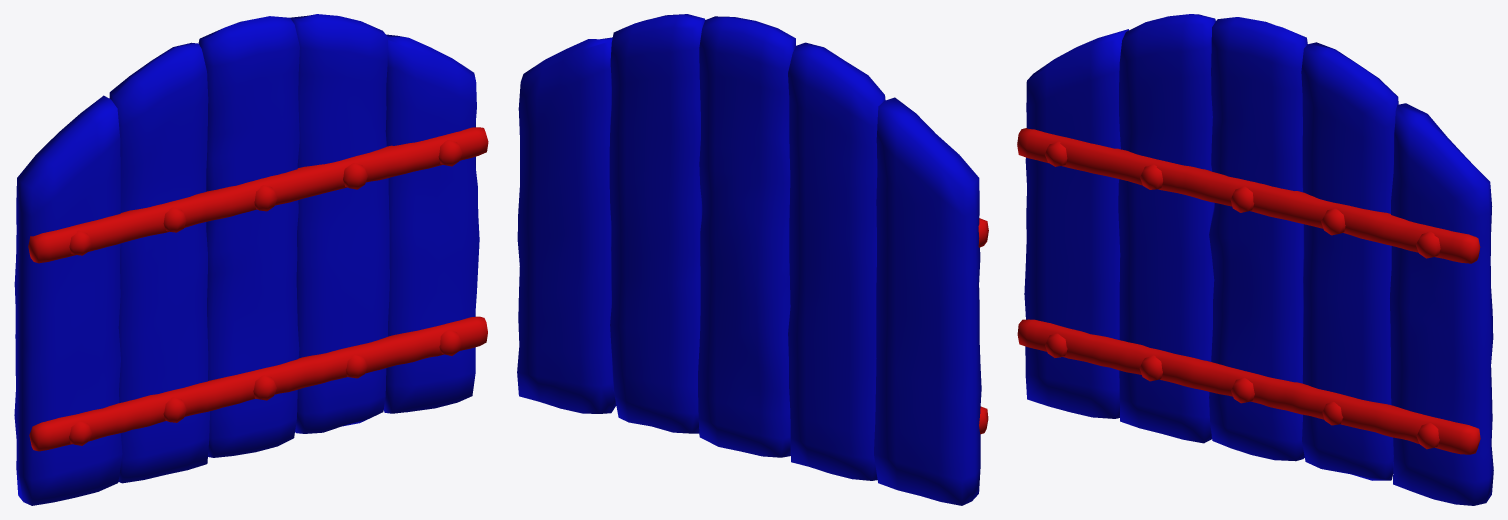
3 views of the same model, side by side, from view 1: azimuth 30°, elevation 25°; view 2: azimuth 150°, elevation 25°; view 3: azimuth 330°, elevation 25° (orthographic).
Visible parts, largest first — view 1: UNSUB (×2); view 2: UNSUB; view 3: UNSUB (×2).
Boxes of the visible parts, x1,y1,x2,y2 form: UNSUB (×2): (14,14,488,505); UNSUB: (517,14,981,505); UNSUB (×2): (1017,14,1493,505).
Bounding box in the file's own units: 1062 × 958 × 136.
